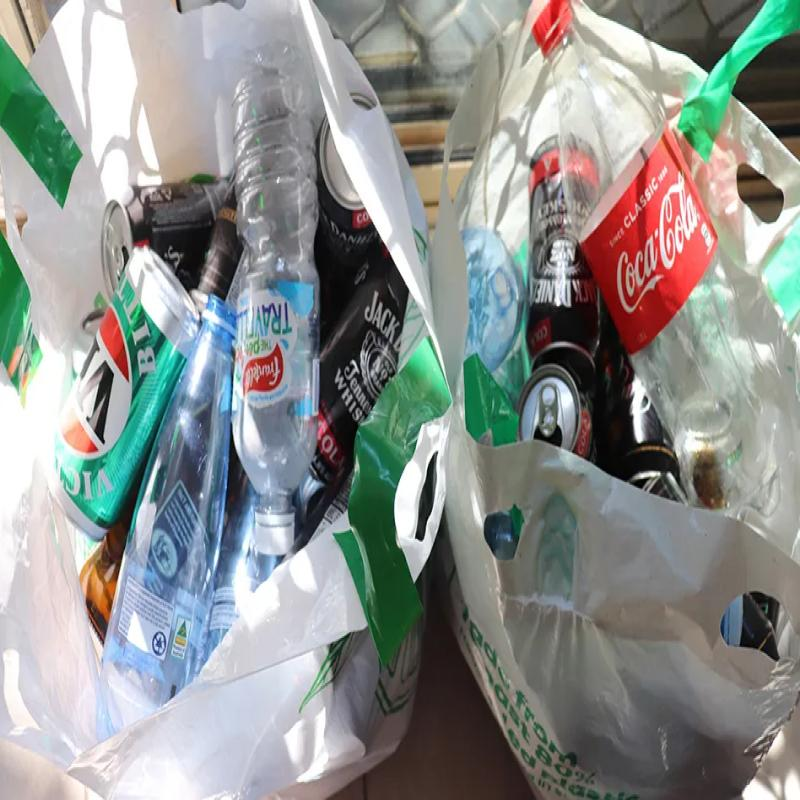botella: (525, 0, 800, 532), (93, 286, 238, 757), (231, 13, 310, 566)
